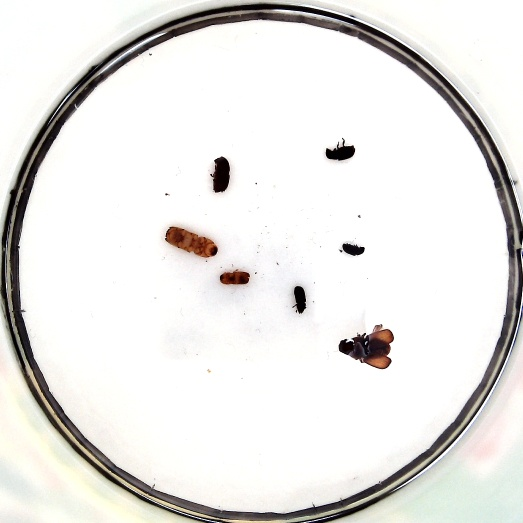acuminatus: (218, 269, 249, 286)
armandi: (324, 143, 354, 162)
boerner: (163, 226, 216, 258)
coleoptera: (341, 240, 365, 257), (293, 283, 305, 314)
leconte: (340, 326, 394, 369)
linnaeus: (213, 157, 229, 193)
